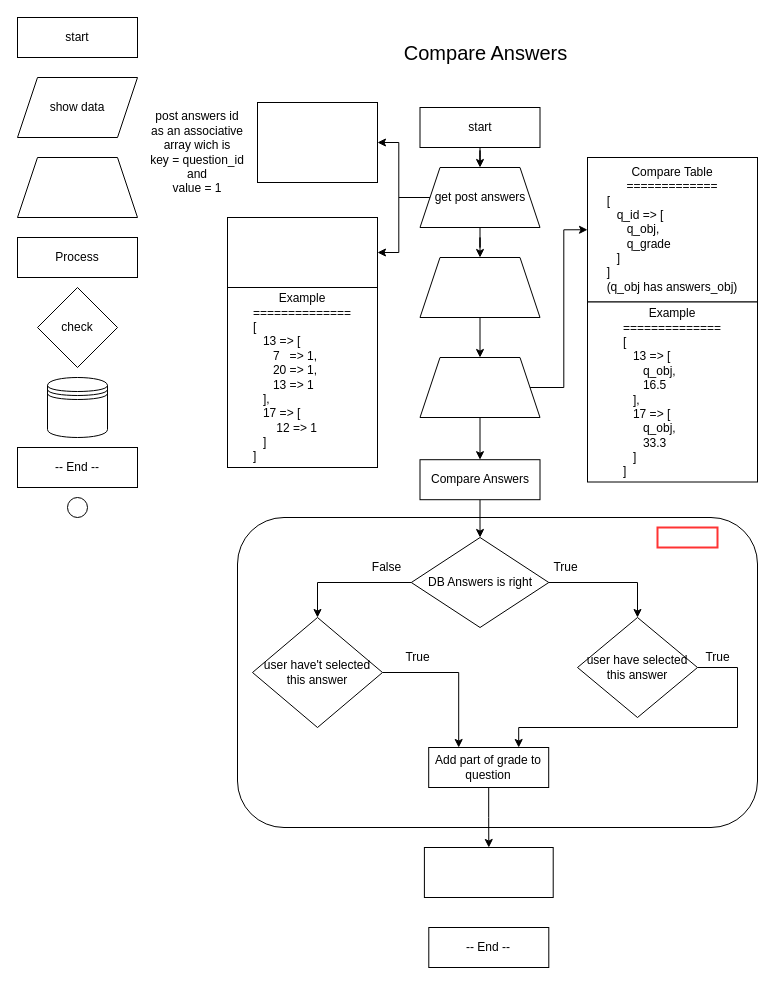
Some shapes in this 775 by 985 pixel diagram are drawn without their labels. The shapes that lost their labels are listed below. From the top down, each one's centre as x and y in pixels, then its label:
At pixel 317 142: "SESSION ========= exam_id exam_title course_id".
At pixel 77 187: "get info".
At pixel 302 252: "POST ============ [q_id => [a_id, a_id]]".
At pixel 479 287: "get exam info by id".
At pixel 77 407: "storage".
At pixel 479 387: "get DB answers".
At pixel 687 537: "LOOP".
At pixel 488 872: "Remove unselected Answers From Compare Table".
